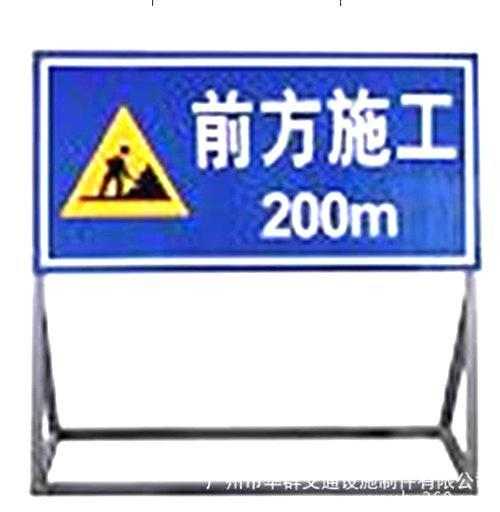sign: (31, 50, 482, 269)
